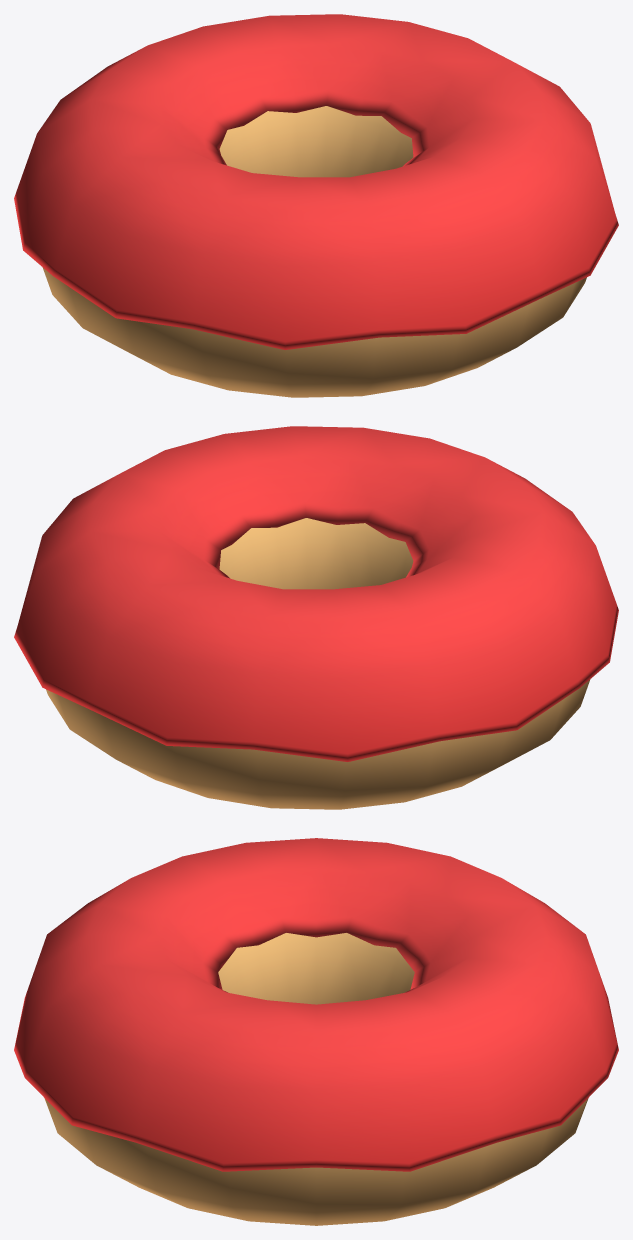
The model's file is donut_red.fbx.
3 renders of one model, top to bottom at view 1: azimuth 30°, elevation 25°; view 2: azimuth 150°, elevation 25°; view 3: azimuth 270°, elevation 25°, orthographic.
Parts seen in each view (by area): view 1: donut_red; view 2: donut_red; view 3: donut_red.
Part boxes in pixels (box(x1,y1,x2,y2)): donut_red: box(14, 14, 618, 397); donut_red: box(14, 426, 618, 809); donut_red: box(14, 838, 618, 1225).
Bounding box in the file's own units: 93.8 × 33.51 × 92.52.
